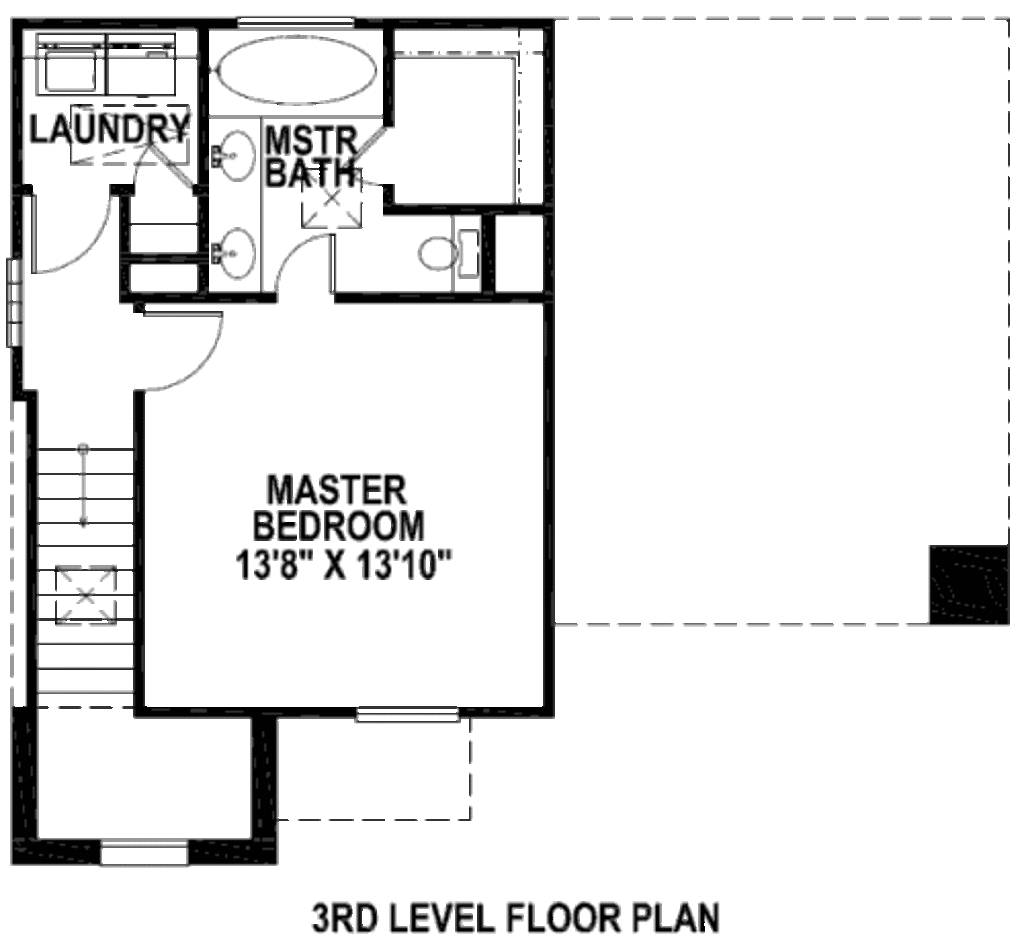door: (133, 304, 230, 394), (26, 184, 118, 276), (276, 226, 349, 305)
large_sink: (417, 217, 484, 289)
small_sink: (205, 114, 265, 292)
stairs: (30, 433, 149, 727)
tub: (210, 28, 388, 124)
window: (99, 833, 192, 868), (356, 699, 469, 726)
